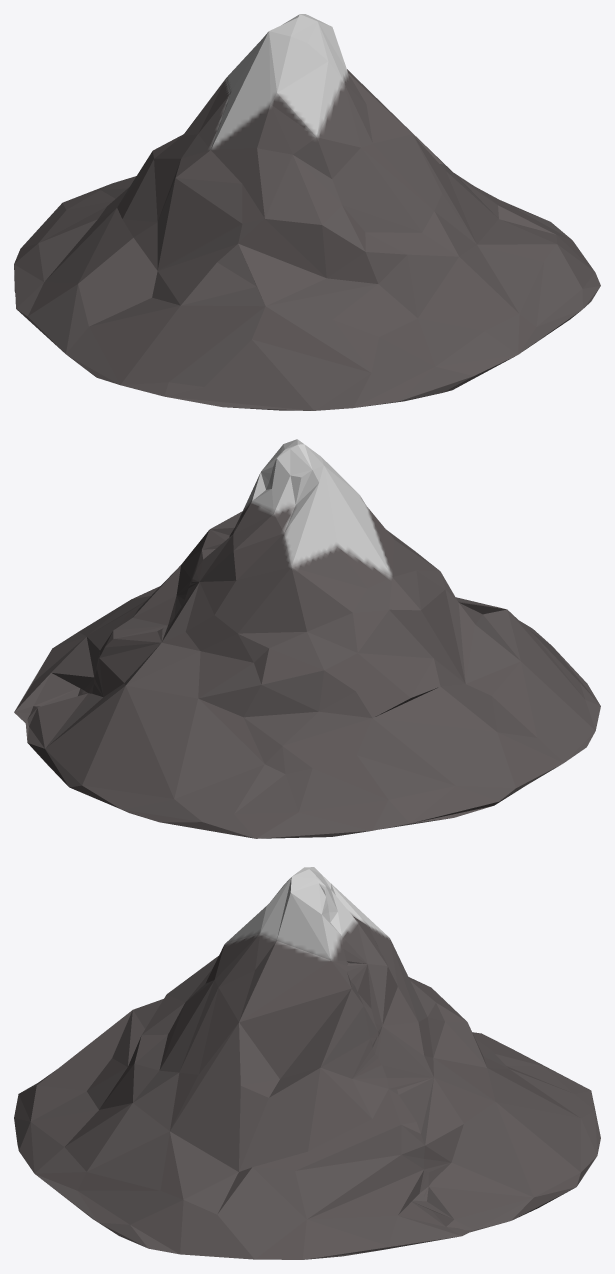
Rendered from Mountain Path 4.fbx.
The picture shows the model from 3 angles, top to bottom: view 1: azimuth 30°, elevation 25°; view 2: azimuth 150°, elevation 25°; view 3: azimuth 270°, elevation 25°; orthographic projection.
Parts seen in each view (by area): view 1: Mountain_Path_4; view 2: Mountain_Path_4; view 3: Mountain_Path_4.
Part boxes in pixels (x1,y1,x2,y2): Mountain_Path_4: (14, 14, 600, 410); Mountain_Path_4: (14, 439, 600, 838); Mountain_Path_4: (14, 867, 600, 1259).
Bounding box in the file's own units: 91.22 × 48.33 × 92.25.
1 material, 1 textured.
